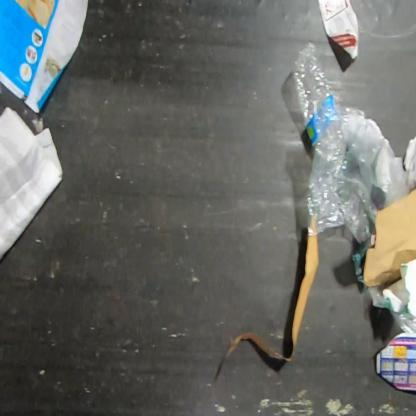cardboard: (225, 235, 320, 364), (363, 183, 415, 286), (382, 259, 416, 318)
rigid_plastic: (290, 38, 336, 154)
soft_plastic: (304, 103, 412, 248), (365, 278, 415, 334)
